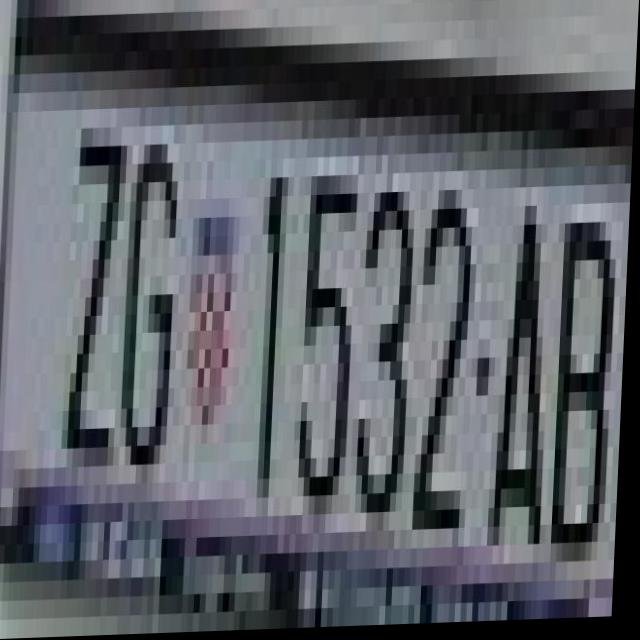1: (244, 142, 292, 520)
2: (411, 155, 483, 533)
3: (360, 157, 419, 516)
5: (283, 158, 361, 537)
A: (492, 190, 563, 550)
B: (555, 207, 626, 586)
G: (122, 126, 188, 485)
Z: (48, 90, 131, 469)
